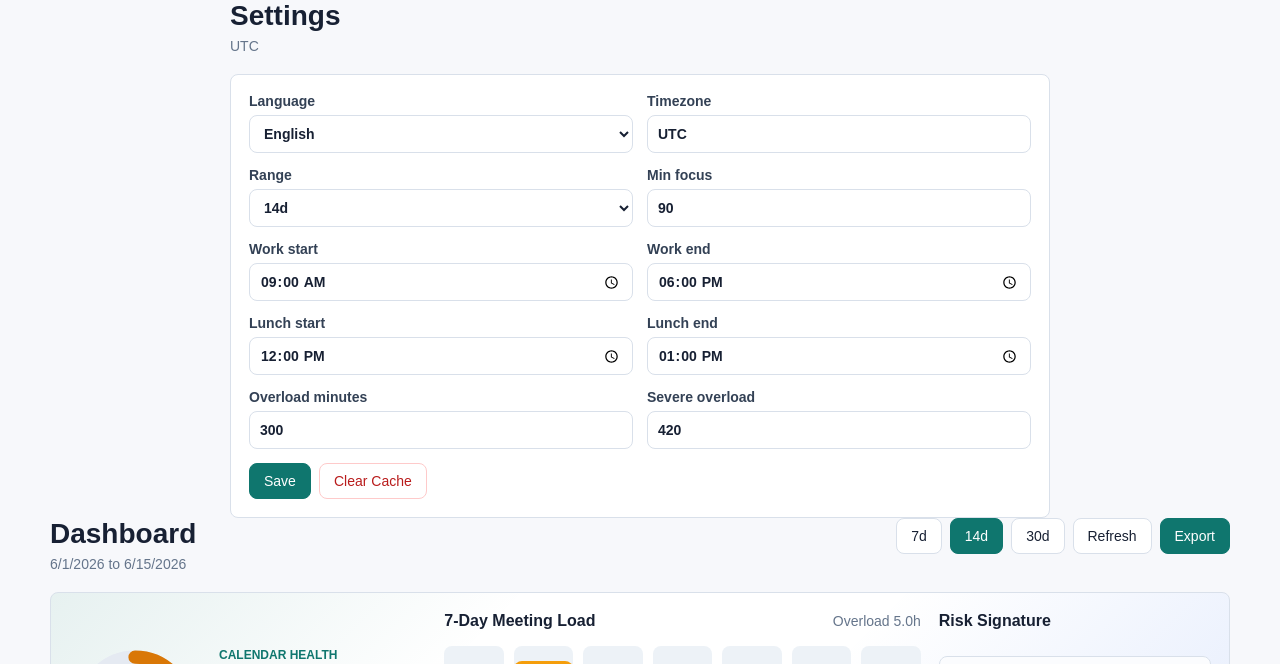
Test case: desktop UI › switches app content from the settings language selector
Select "中文" in the dropdown labelled "Language" at (441, 134), box x1=249 y1=115 x2=633 y2=153
(page scrolled)
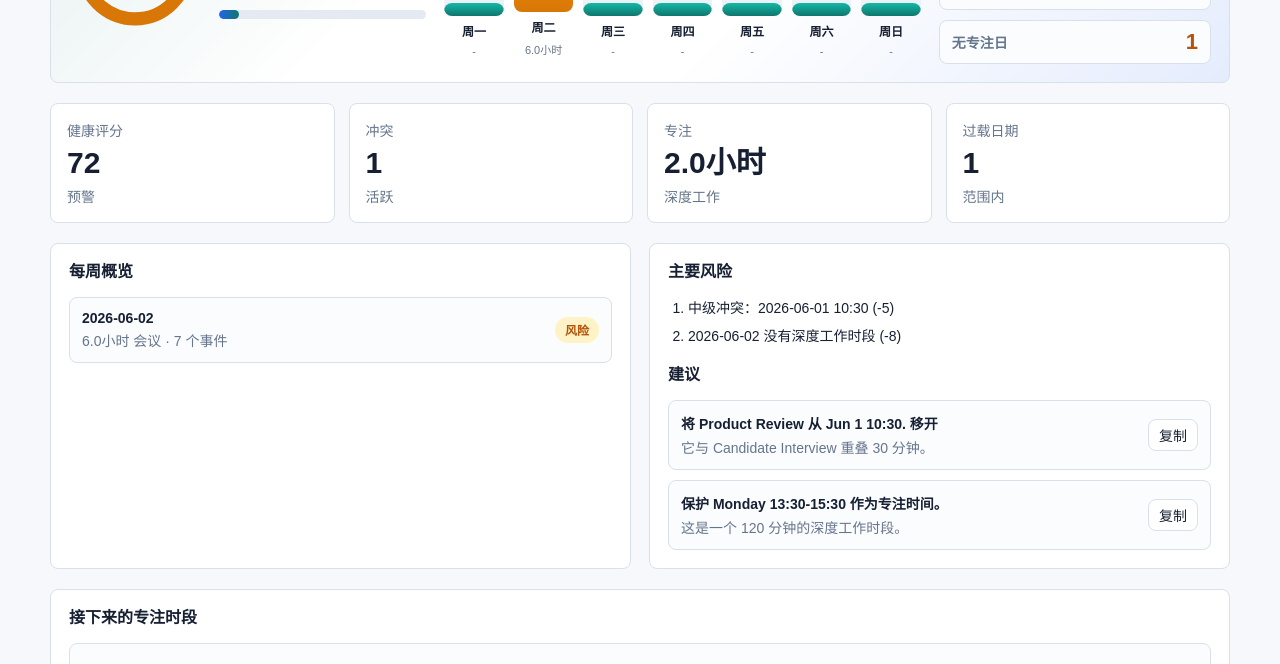
Expected: the text "健康评分" is shown, x1=67 y1=123 x2=123 y2=139
Expected: the heading "主要风险" is shown, x1=668 y1=263 x2=732 y2=280
Expected: the list item "中级冲突：2026-06-01 10:30 (-5)" is shown, x1=688 y1=300 x2=894 y2=316
